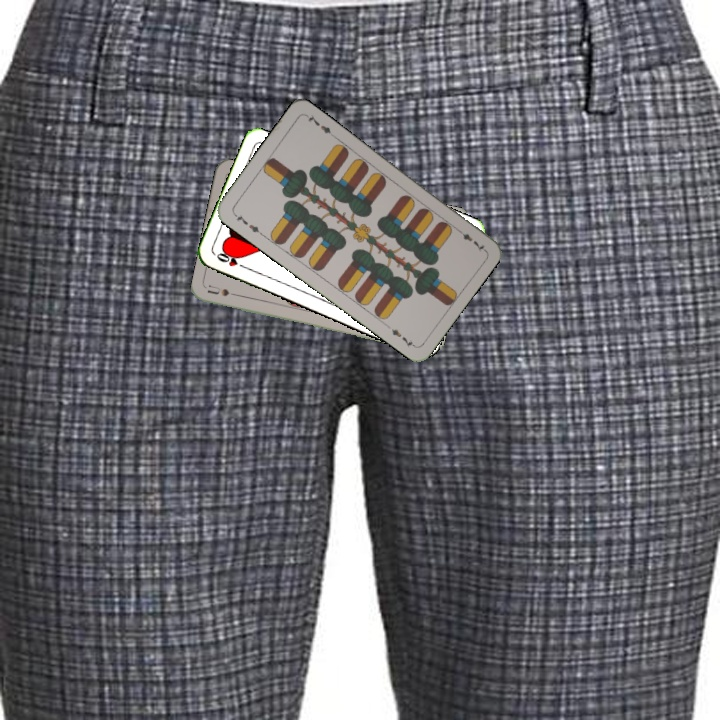E7: (452, 224, 487, 254), (229, 209, 265, 238)
HO: (212, 248, 250, 272)
SU: (204, 282, 245, 300)
